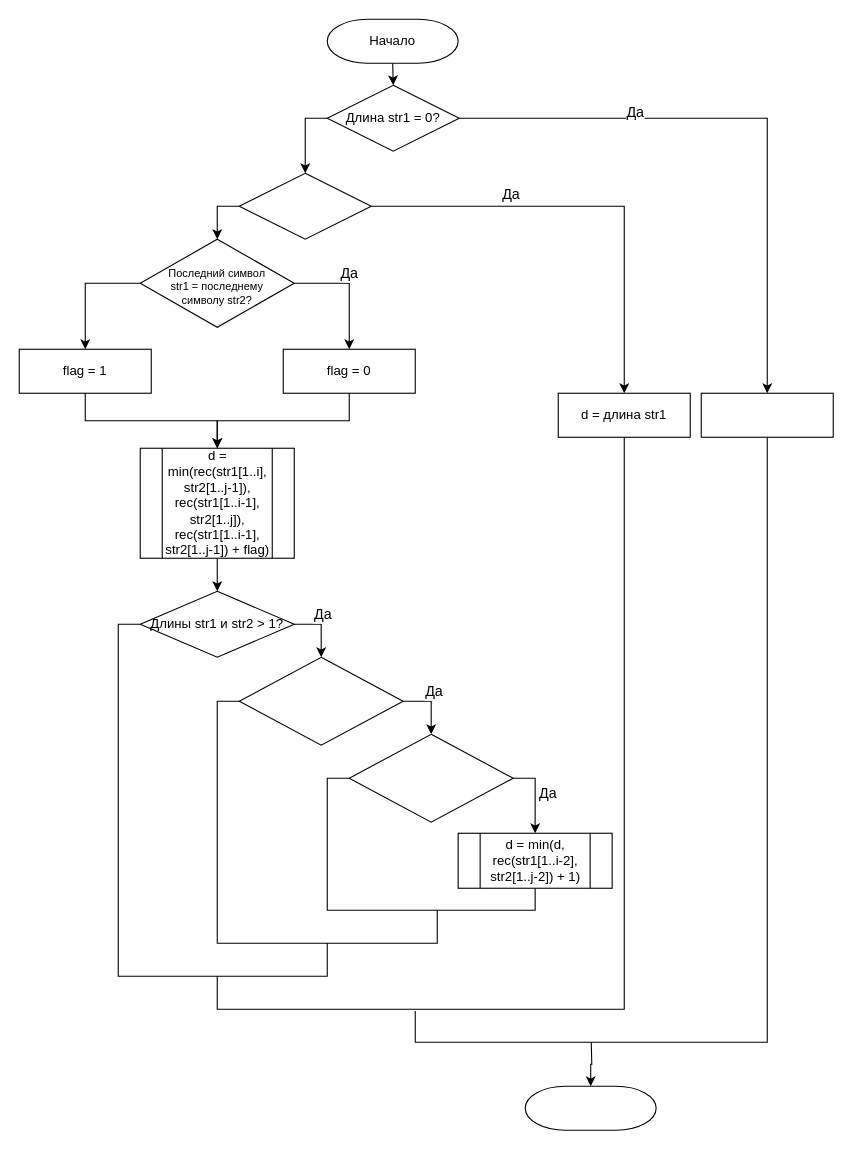
This 853x1150 diagram has some shape labels left out. The centre of each missing label's shape, as x and y in pixels:
d = длина str2: the point at 766,414
Длина str2 = 0?: the point at 304,205
Конец: the point at 590,1107
Последний символ str1 = предпоследнему символу str2?: the point at 320,700
Последний символ str2 = предпоследнему символу str1?: the point at 430,777
